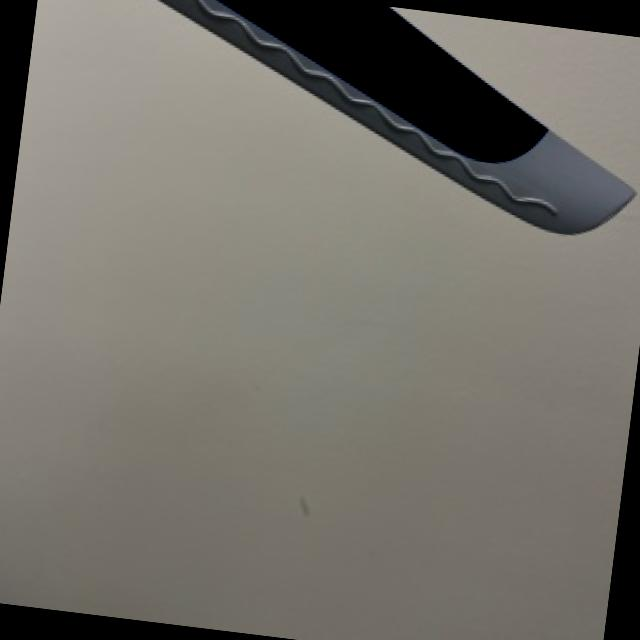healthy: (164, 0, 633, 233)
